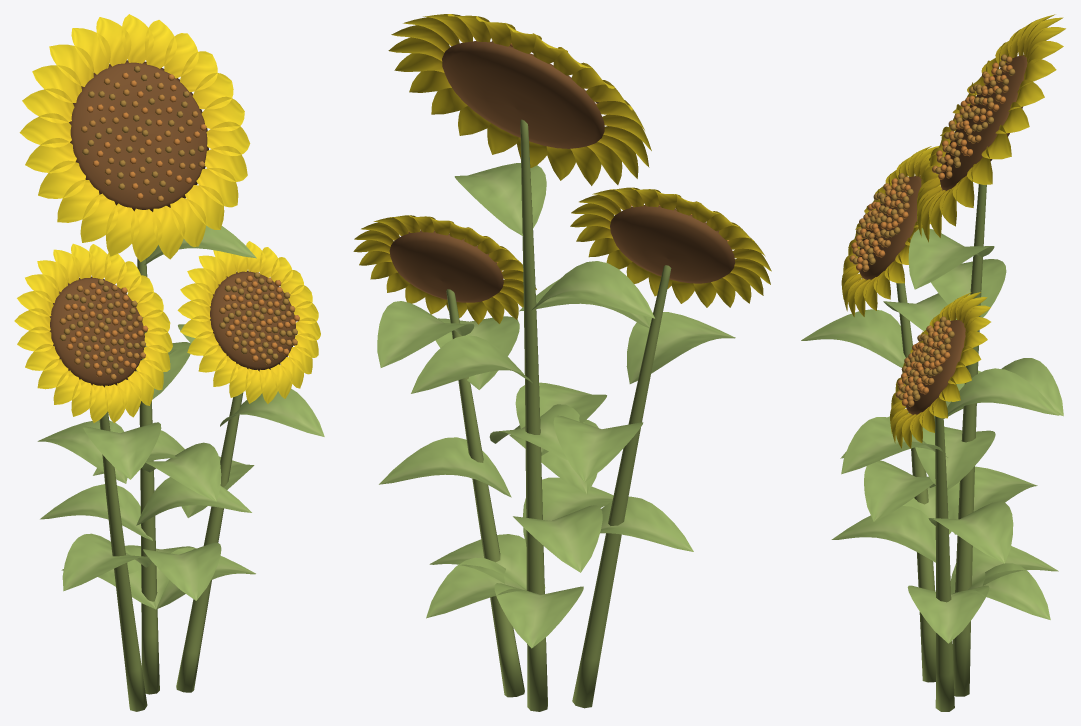
The model's file is sunflower_mature.glb.
3 views of the same model, side by side, from view 1: azimuth 30°, elevation 25°; view 2: azimuth 150°, elevation 25°; view 3: azimuth 270°, elevation 25° (orthographic). The views are drawn at different scales.
Visible parts, largest first — view 1: flowers, leaves, stems; view 2: flowers, leaves, stems; view 3: leaves, flowers, stems.
Boxes of the visible parts, x1,y1,x2,y2 form: flowers: (14, 14, 320, 423); leaves: (37, 225, 324, 609); stems: (99, 258, 243, 711); flowers: (353, 14, 771, 324); leaves: (377, 163, 735, 648); stems: (446, 119, 671, 711); leaves: (801, 228, 1063, 643); flowers: (841, 14, 1065, 448); stems: (896, 184, 986, 711).
Size of the model in its own units: 0.7264 by 1.35 by 0.4883.
